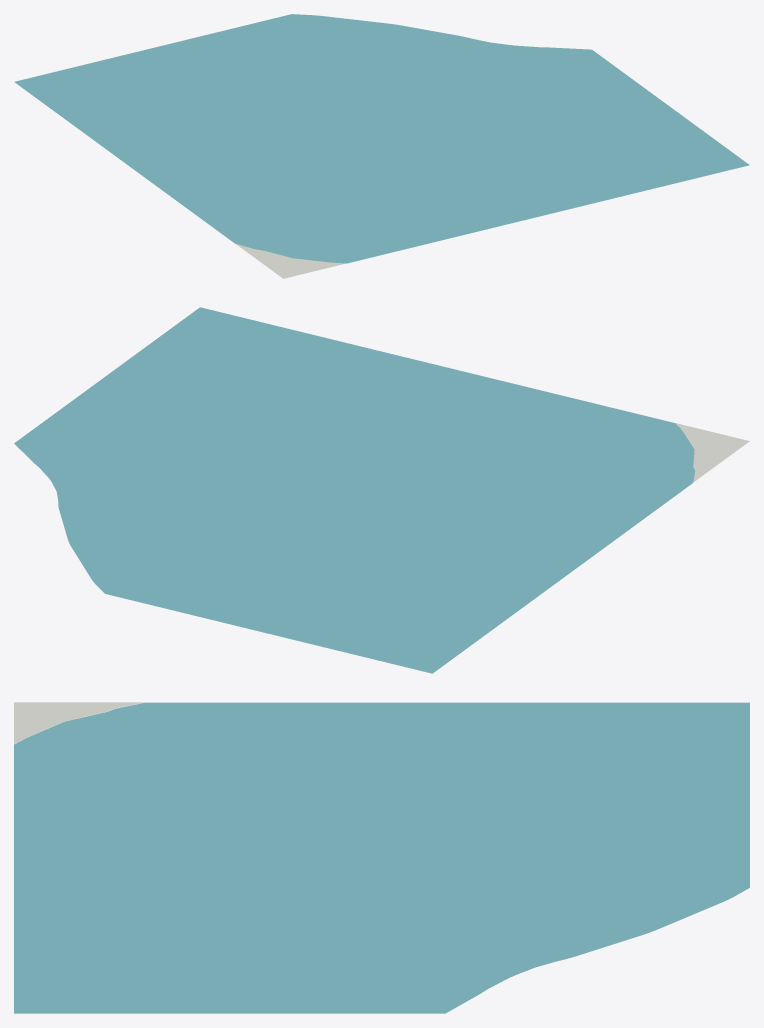
3 renders of one model, top to bottom at view 1: azimuth 30°, elevation 25°; view 2: azimuth 150°, elevation 25°; view 3: azimuth 270°, elevation 25°, orthographic. The views are drawn at different scales.
Visible parts, largest first — view 1: city; view 2: city; view 3: city.
Boxes of the visible parts, left/top/right/bottom form: city: left=14, top=14, right=749, bottom=278; city: left=14, top=307, right=749, bottom=673; city: left=14, top=702, right=749, bottom=1013.
Bounding box in the file's own units: 500 × 0.18 × 500.
